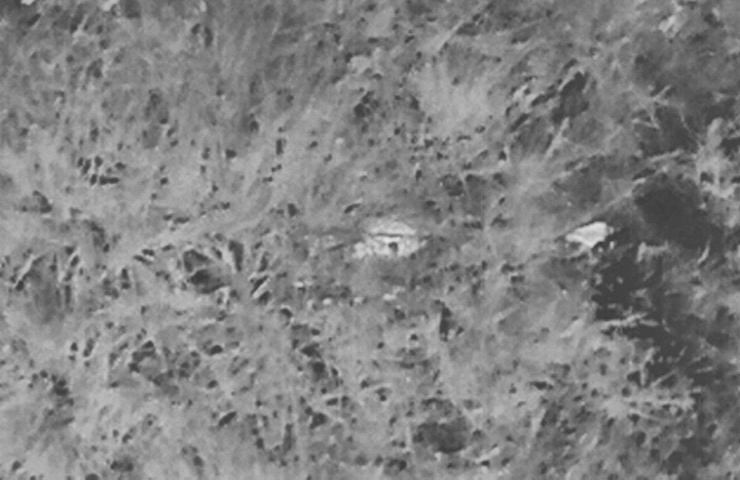landmines: (335, 212, 431, 300)
